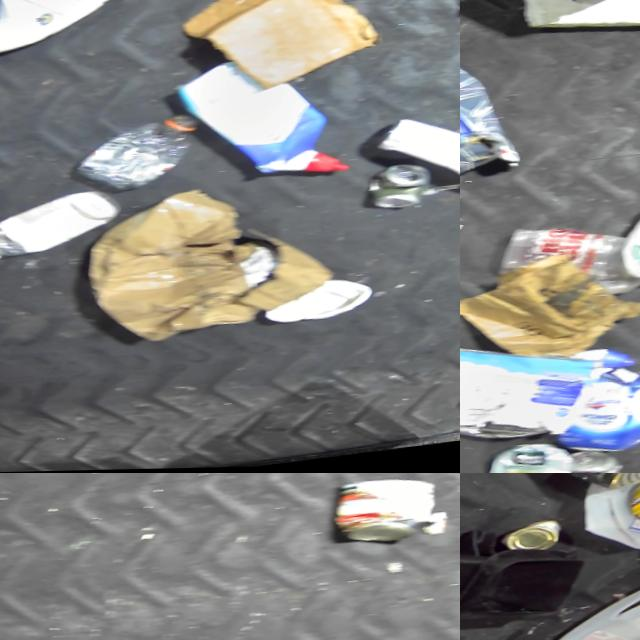can: (326, 473, 440, 550), (369, 106, 460, 201), (361, 163, 431, 214), (478, 438, 573, 473), (492, 518, 566, 559), (530, 450, 618, 473), (618, 473, 640, 538)
milk_jug: (0, 0, 144, 60), (528, 567, 640, 640), (571, 473, 640, 560)
non_white_jug: (171, 50, 348, 192)
plastic_bottle: (67, 116, 205, 195)
